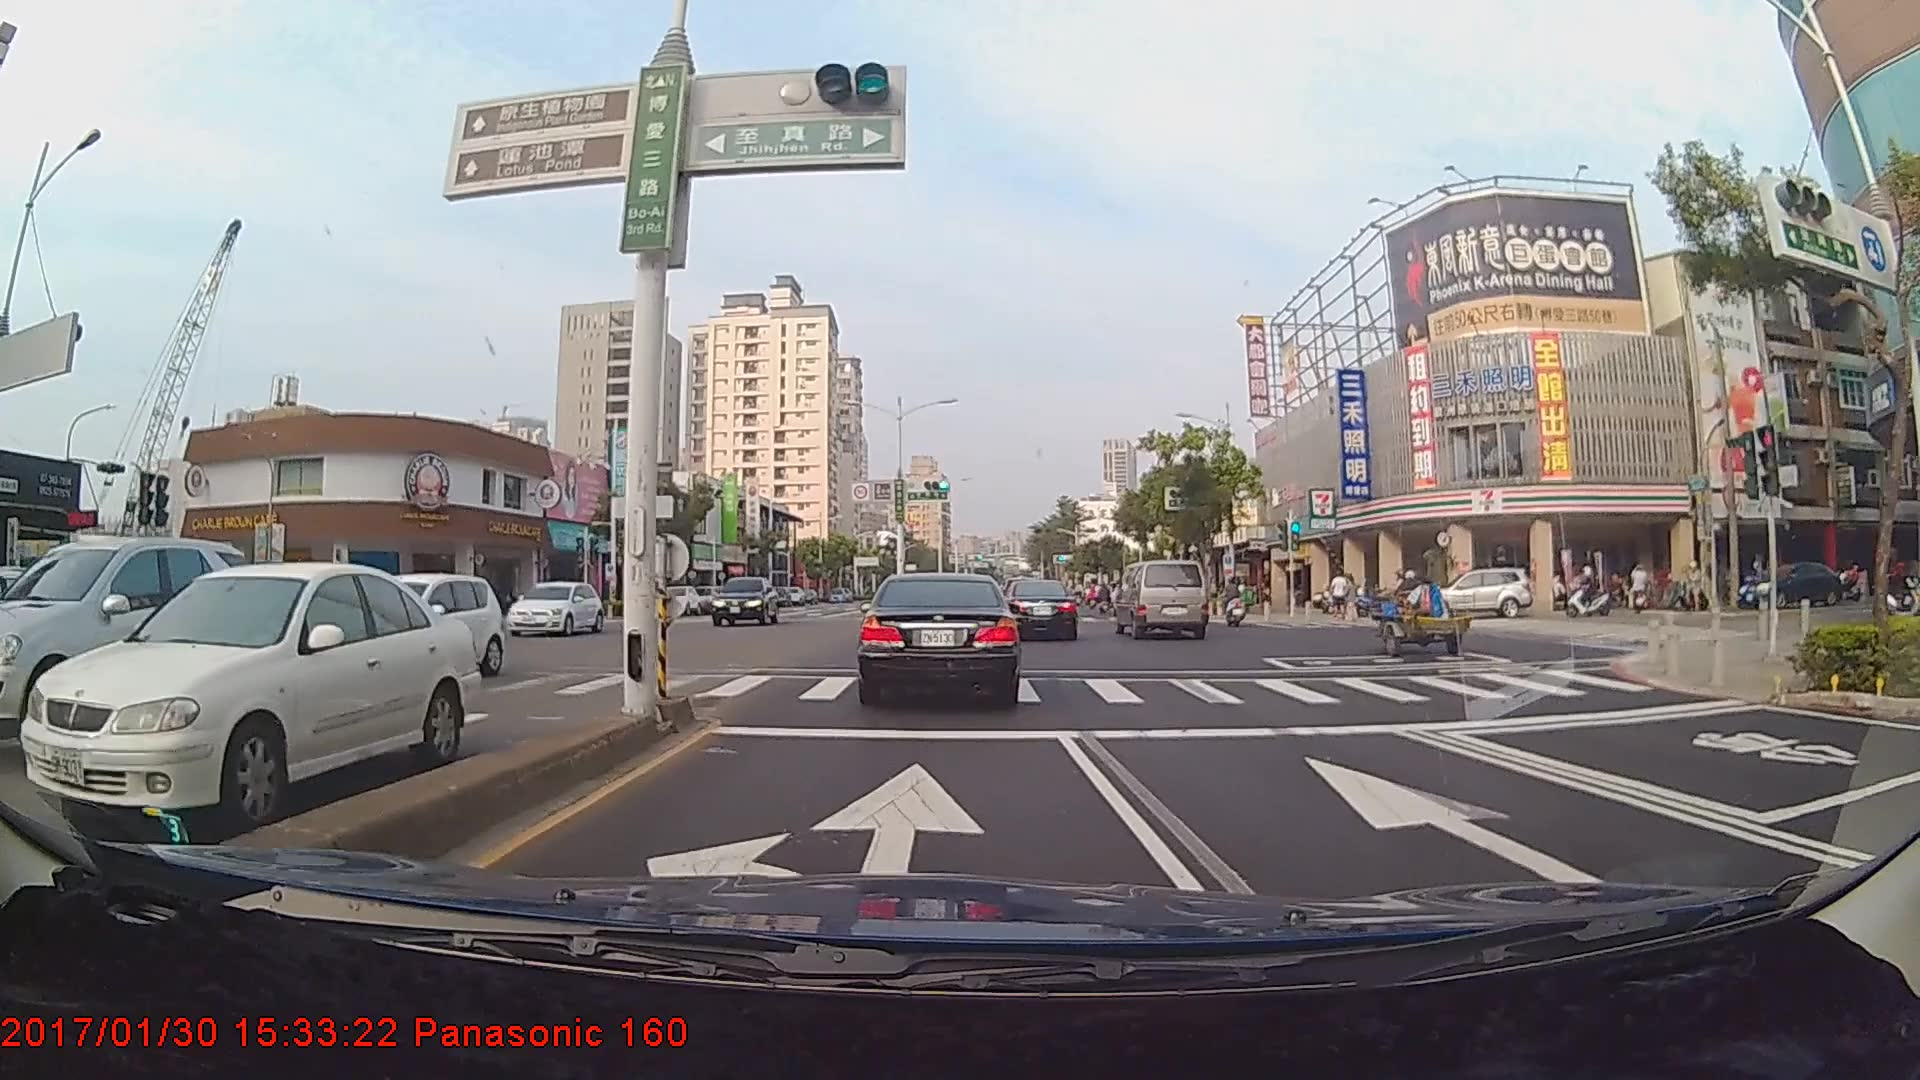pedestrian: (1330, 570, 1350, 620)
rider: (1561, 562, 1622, 625), (1214, 578, 1252, 630)
vehicle: (44, 555, 465, 834), (0, 532, 258, 752), (859, 566, 1019, 706), (315, 568, 501, 682), (1117, 559, 1210, 640), (1410, 570, 1532, 621), (499, 579, 600, 637), (1005, 579, 1078, 641), (709, 576, 778, 627)
